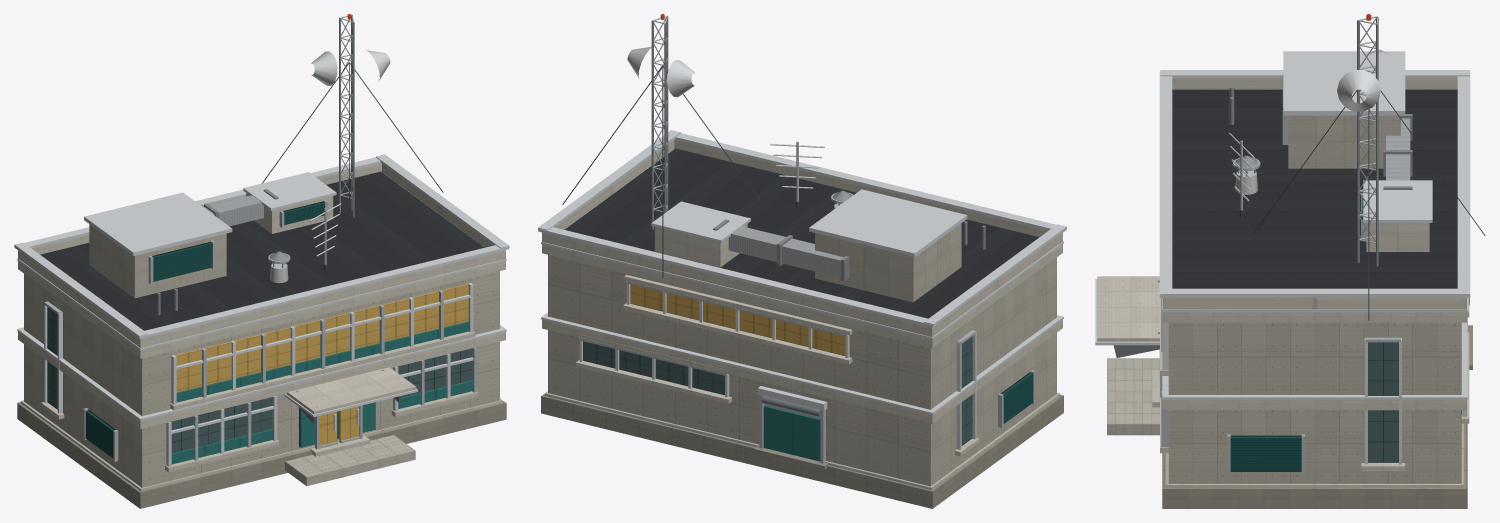
Rendered from lf-1-built.glb.
The picture shows the model from 3 angles, left to right: view 1: azimuth 30°, elevation 25°; view 2: azimuth 150°, elevation 25°; view 3: azimuth 270°, elevation 25°; orthographic projection. The views are drawn at different scales.
Size of the model in its own units: 22.78 by 20.29 by 15.97.
36 materials, 28 textured.
